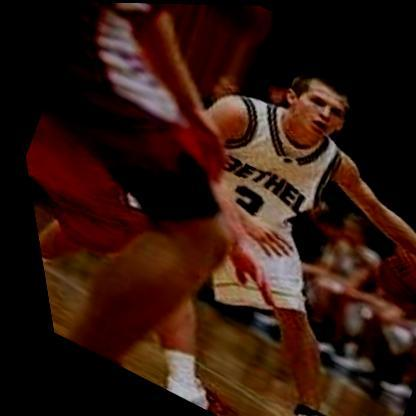basketball: (348, 230, 416, 327)
